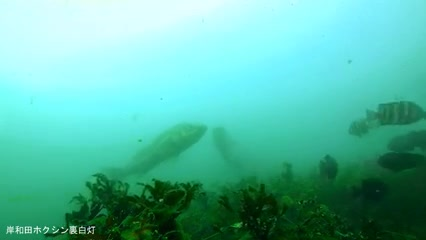ishidai: (369, 100, 419, 127)
suzuki: (98, 119, 215, 187)
